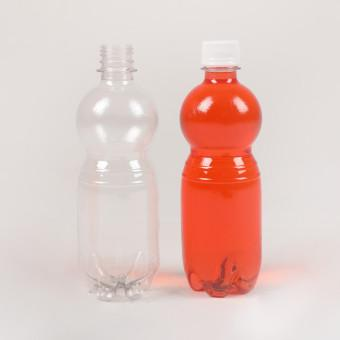bottle: (179, 41, 261, 299), (77, 44, 158, 301)
